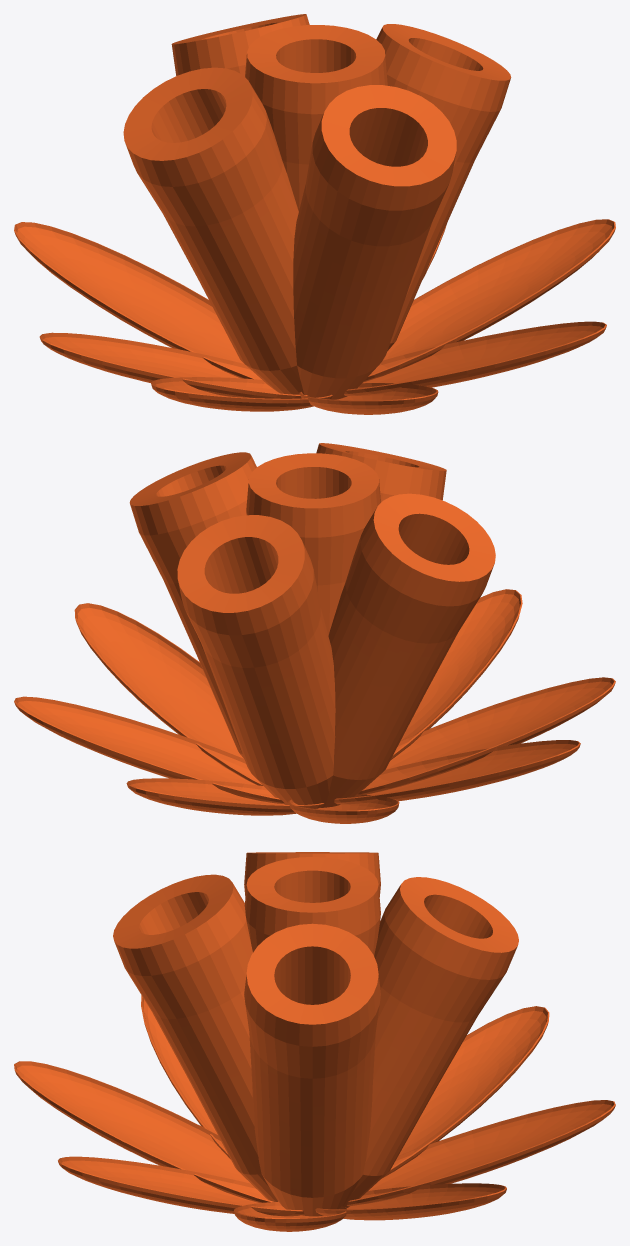
3 views of the same model, one above another, from view 1: azimuth 30°, elevation 25°; view 2: azimuth 150°, elevation 25°; view 3: azimuth 270°, elevation 25° (orthographic). The views are drawn at different scales.
Visible parts, largest first — view 1: Sphere.003; view 2: Sphere.003; view 3: Sphere.003.
Part boxes in pixels (x1,y1,x2,y2): Sphere.003: [14, 14, 615, 414]; Sphere.003: [14, 443, 615, 823]; Sphere.003: [14, 852, 615, 1231].
Size of the model in its own units: 1.18 by 0.6941 by 1.17.
